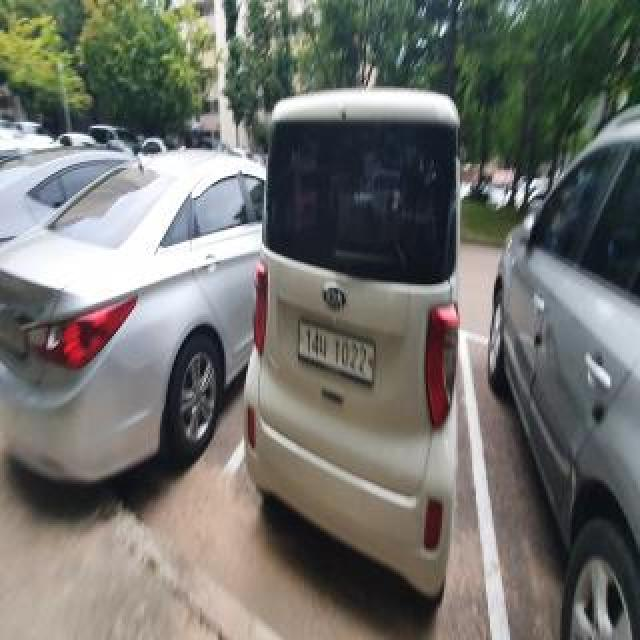car: (240, 76, 484, 614)
illegal_plate: (296, 314, 377, 389)
